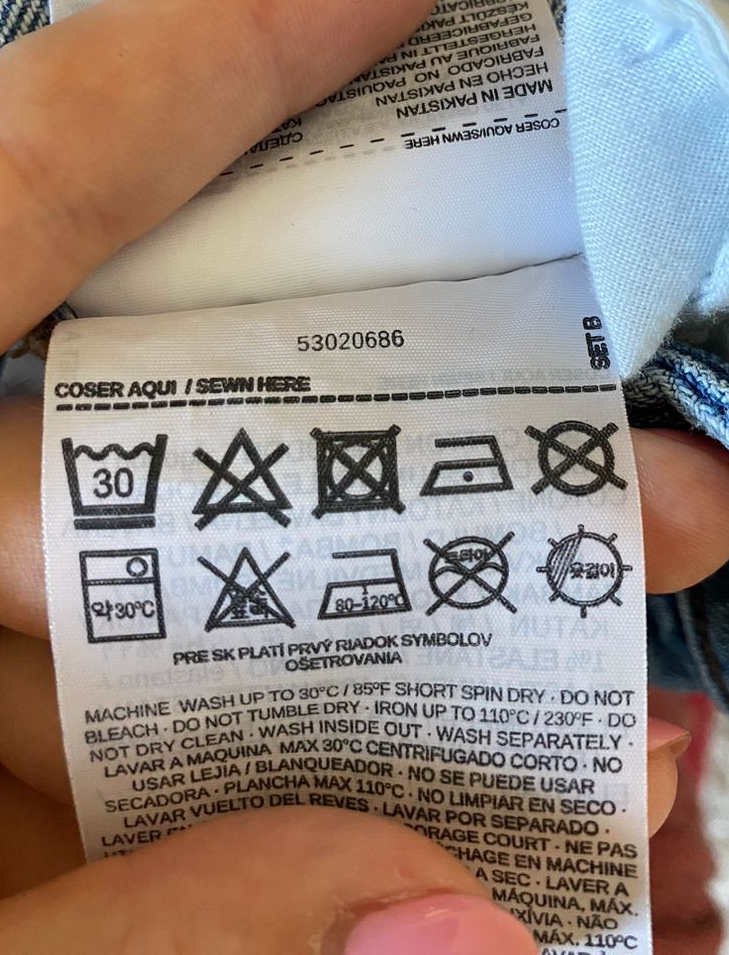do_not_bleach: (189, 420, 297, 534)
do_not_dry_clean: (524, 414, 629, 505)
do_not_tumble_drying: (307, 419, 410, 524)
ironing_at_low_temp: (416, 428, 519, 503)
wash_at_or_below_30_mild_fine_wash: (60, 428, 178, 537)
